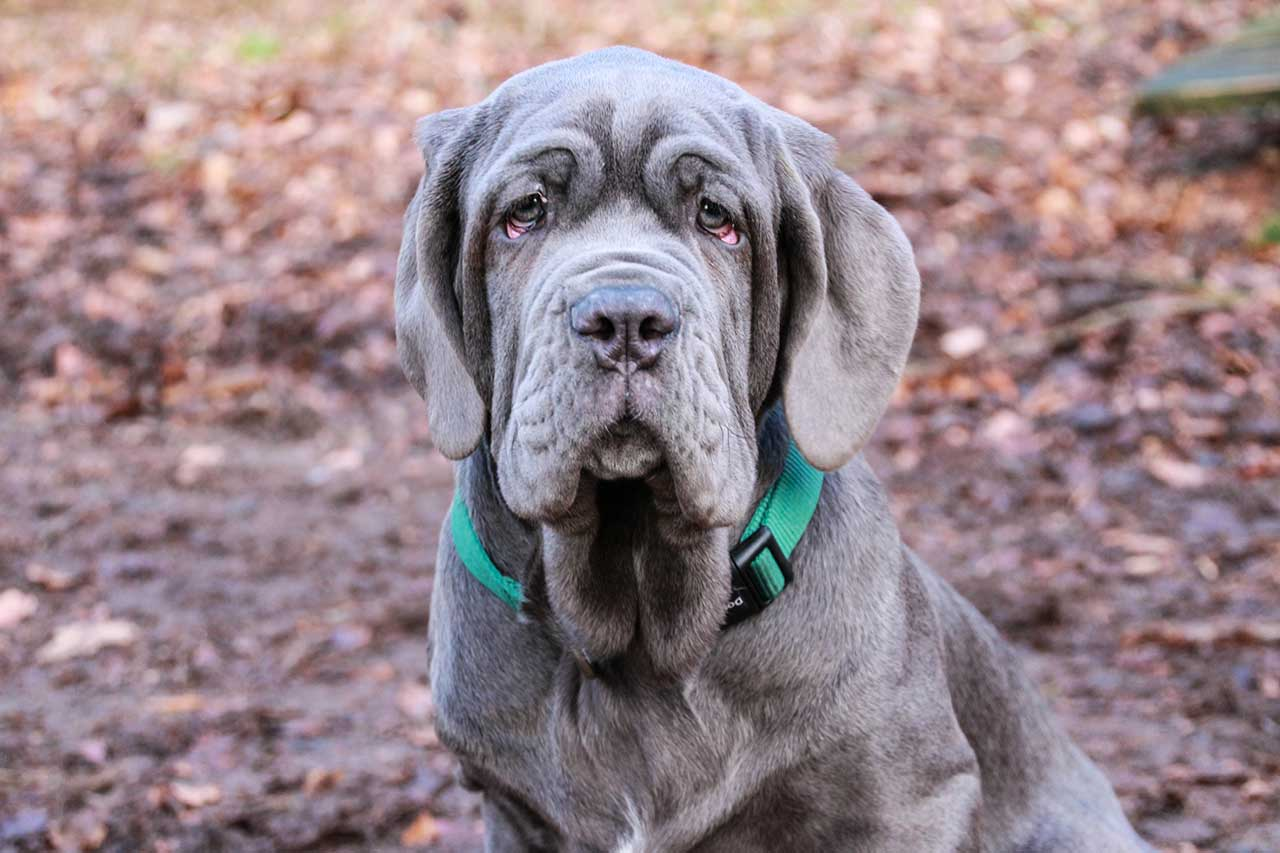neapolitan_mastiff: (394, 43, 1157, 853)
